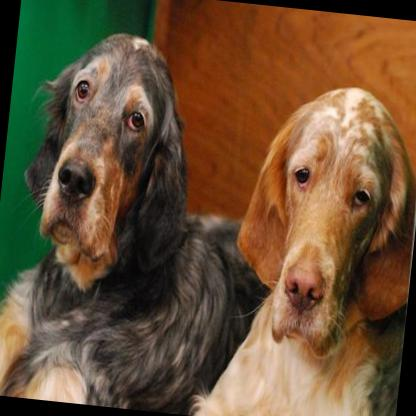English_setter: (0, 21, 296, 416), (189, 70, 416, 416)
